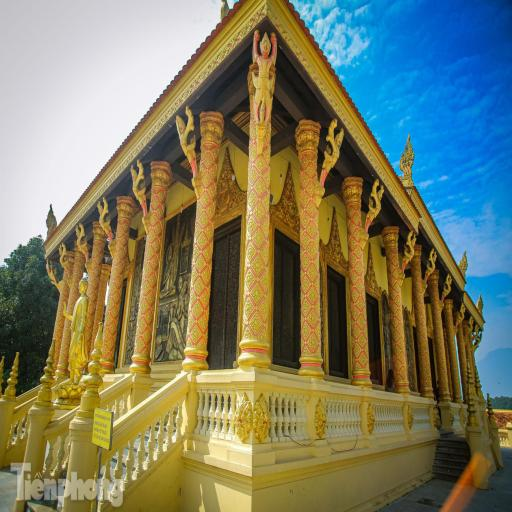hoa: (248, 313, 265, 333), (190, 298, 204, 318), (258, 297, 269, 321), (190, 321, 201, 343), (193, 276, 205, 296), (253, 228, 265, 248), (252, 255, 265, 273), (251, 282, 263, 301), (198, 310, 208, 332), (197, 232, 209, 250), (308, 309, 320, 326), (260, 218, 270, 238), (260, 271, 270, 291), (245, 298, 255, 318), (247, 216, 258, 234), (300, 321, 311, 339), (200, 189, 212, 205), (198, 213, 210, 229), (202, 265, 212, 284), (200, 288, 210, 307), (196, 255, 207, 272), (202, 244, 212, 262), (246, 243, 256, 261), (260, 245, 270, 263), (246, 271, 256, 289), (306, 242, 318, 257), (302, 298, 312, 316), (308, 332, 318, 350), (254, 204, 265, 220), (258, 326, 269, 342), (306, 162, 317, 178), (301, 254, 312, 270), (307, 264, 318, 280), (256, 157, 268, 171), (207, 180, 216, 198), (255, 178, 265, 194), (248, 192, 258, 208), (262, 194, 272, 210), (306, 221, 316, 237), (312, 255, 322, 271), (313, 276, 321, 296), (308, 287, 318, 303), (314, 321, 322, 341), (204, 223, 213, 240), (202, 172, 212, 187), (140, 298, 150, 313), (146, 290, 155, 306), (145, 306, 153, 324), (307, 202, 316, 218), (358, 332, 367, 348), (204, 205, 214, 219), (248, 170, 258, 184), (250, 124, 258, 141), (302, 276, 310, 293), (187, 312, 194, 331), (135, 338, 145, 351), (302, 212, 310, 228), (301, 232, 309, 248), (211, 147, 220, 161), (210, 164, 217, 182), (149, 254, 158, 268), (138, 318, 147, 332), (300, 173, 309, 187), (301, 192, 310, 206), (314, 300, 321, 318), (357, 298, 366, 312), (357, 315, 366, 329), (193, 245, 201, 260), (152, 237, 160, 252), (143, 328, 151, 343), (359, 352, 367, 367), (191, 267, 198, 284), (250, 143, 257, 160), (243, 328, 252, 341), (300, 156, 309, 169), (194, 224, 201, 240), (150, 211, 158, 225), (154, 221, 162, 235), (148, 228, 156, 242), (149, 273, 156, 289), (142, 280, 150, 294), (109, 319, 117, 333), (308, 182, 316, 196), (354, 212, 362, 226), (354, 244, 362, 258), (353, 325, 361, 339), (354, 342, 361, 358), (151, 196, 160, 208), (264, 170, 270, 188), (350, 270, 358, 283), (314, 212, 320, 229), (118, 246, 125, 260), (104, 328, 111, 342), (264, 148, 271, 162), (313, 234, 320, 248), (200, 144, 206, 160), (206, 280, 212, 296), (198, 338, 206, 350), (156, 207, 164, 219), (146, 245, 154, 257), (144, 264, 152, 276), (72, 289, 80, 301), (348, 222, 356, 234), (350, 255, 358, 267), (355, 262, 363, 274), (356, 280, 364, 292), (398, 351, 406, 363), (398, 366, 406, 378), (111, 306, 118, 319), (209, 238, 215, 253), (190, 291, 196, 306), (204, 154, 212, 165), (157, 190, 165, 201), (196, 204, 203, 216), (303, 345, 310, 357), (350, 237, 356, 251), (352, 288, 358, 302), (353, 306, 359, 320), (396, 308, 403, 320), (397, 324, 404, 336), (204, 327, 209, 343), (140, 348, 150, 356), (101, 345, 109, 355), (354, 360, 362, 370), (198, 182, 204, 195), (121, 232, 127, 245), (106, 313, 112, 326), (108, 336, 114, 349), (355, 229, 361, 242), (134, 328, 141, 339), (394, 359, 401, 370), (186, 336, 192, 348), (94, 264, 100, 276), (92, 277, 98, 289), (90, 290, 96, 302), (89, 303, 95, 315), (87, 316, 93, 328), (116, 238, 122, 250), (117, 260, 123, 272), (108, 298, 114, 310), (312, 156, 318, 168), (316, 346, 322, 358), (348, 207, 354, 219), (392, 302, 398, 314), (56, 328, 63, 338), (76, 269, 83, 279), (117, 226, 124, 236), (387, 250, 394, 260), (388, 264, 395, 274), (72, 272, 78, 283), (87, 283, 93, 294), (115, 277, 121, 288), (200, 163, 205, 176), (364, 342, 368, 358), (146, 341, 153, 350), (63, 288, 70, 297), (393, 332, 400, 341), (161, 202, 166, 214), (157, 232, 162, 244), (55, 340, 61, 350), (98, 241, 103, 253), (96, 254, 102, 264), (91, 260, 97, 270), (88, 272, 94, 282), (114, 252, 119, 264), (112, 268, 118, 278), (111, 281, 115, 296), (364, 323, 368, 338), (391, 290, 397, 300), (396, 296, 402, 306), (398, 340, 404, 350), (394, 346, 400, 356), (415, 300, 421, 310), (416, 310, 422, 320), (421, 328, 427, 338), (420, 360, 426, 370), (138, 309, 142, 323), (62, 338, 66, 352), (58, 302, 63, 313), (64, 348, 69, 359), (111, 347, 116, 358), (424, 351, 429, 362), (146, 222, 152, 231), (62, 273, 68, 282), (56, 314, 62, 323), (59, 319, 65, 328), (74, 263, 80, 272), (92, 249, 98, 258), (392, 256, 398, 265), (417, 322, 423, 331), (434, 317, 440, 326), (438, 331, 444, 340), (362, 289, 366, 302), (60, 292, 65, 302), (54, 350, 59, 360), (396, 283, 401, 293), (420, 306, 425, 316), (421, 316, 426, 326), (422, 370, 427, 380), (426, 376, 431, 386), (212, 218, 216, 230), (151, 189, 155, 201), (145, 238, 149, 250), (78, 260, 84, 268), (70, 285, 76, 293), (65, 319, 71, 327), (66, 334, 70, 346), (126, 229, 130, 241), (106, 354, 112, 362), (360, 256, 364, 268), (363, 307, 367, 319), (415, 264, 421, 272), (414, 280, 420, 288), (419, 336, 425, 344), (425, 365, 431, 373), (430, 290, 436, 298), (439, 376, 445, 384), (450, 356, 456, 364), (60, 353, 65, 362), (105, 307, 110, 316), (415, 290, 420, 299), (433, 308, 438, 317), (439, 366, 444, 375), (444, 382, 449, 391), (142, 272, 146, 283), (140, 291, 144, 302), (87, 339, 91, 350), (124, 221, 128, 232), (115, 292, 119, 303), (119, 285, 123, 296), (394, 317, 398, 328), (206, 143, 212, 150), (154, 186, 160, 193), (156, 266, 159, 280), (415, 275, 421, 282), (442, 373, 448, 380), (55, 323, 60, 331), (69, 296, 74, 304), (86, 330, 90, 340), (116, 222, 121, 230), (124, 243, 128, 253), (394, 269, 398, 279), (390, 278, 395, 286), (419, 296, 424, 304), (420, 348, 425, 356), (436, 304, 441, 312), (437, 347, 442, 355), (441, 353, 446, 361), (450, 346, 454, 356), (452, 373, 457, 381), (158, 250, 161, 262), (75, 256, 81, 262), (64, 330, 68, 339), (64, 358, 68, 367), (90, 327, 94, 336), (103, 322, 107, 331), (112, 333, 116, 342), (361, 275, 365, 284), (418, 284, 422, 293), (423, 340, 427, 349), (440, 342, 444, 351), (438, 356, 442, 365), (450, 337, 454, 346), (446, 314, 451, 321), (134, 348, 138, 356), (62, 282, 66, 290), (74, 280, 78, 288), (248, 162, 252, 170), (414, 270, 418, 278), (434, 285, 438, 293), (432, 298, 436, 306), (438, 313, 442, 321), (438, 323, 442, 331), (448, 322, 452, 330), (448, 330, 452, 338), (452, 364, 456, 372), (454, 382, 458, 390), (144, 256, 147, 266), (110, 276, 113, 286), (68, 308, 72, 315), (95, 240, 99, 247), (120, 217, 124, 224), (442, 363, 446, 370), (108, 291, 111, 300), (437, 335, 440, 344), (151, 206, 154, 214), (71, 302, 75, 308), (436, 296, 440, 302), (436, 328, 440, 334), (67, 303, 70, 309), (195, 218, 197, 226), (112, 263, 114, 271), (54, 331, 56, 337), (64, 327, 66, 332), (68, 325, 69, 334)
than: (252, 30, 278, 123), (71, 276, 88, 380), (320, 112, 343, 188), (174, 111, 200, 178), (128, 161, 150, 217), (366, 174, 385, 234), (96, 195, 116, 242), (402, 225, 417, 273), (71, 222, 91, 257), (423, 244, 437, 284), (57, 242, 71, 273), (442, 270, 452, 304), (45, 258, 58, 282), (456, 303, 465, 325), (468, 315, 473, 334), (474, 323, 478, 340)
